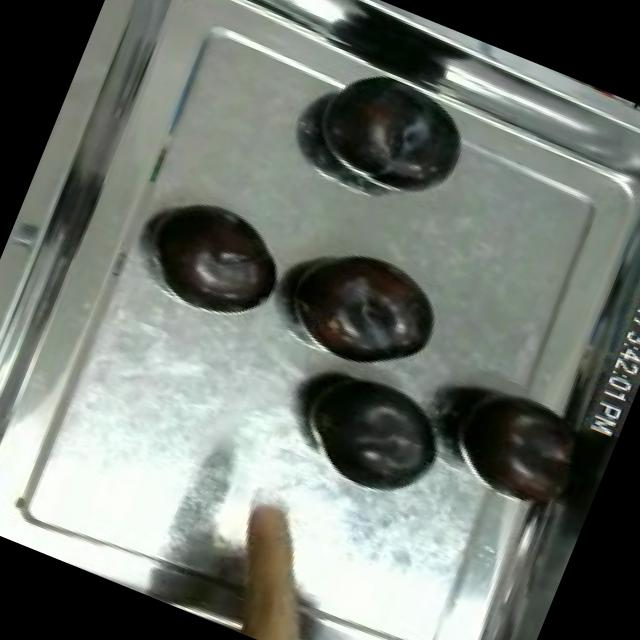Fruit: (298, 52, 487, 215), (272, 225, 458, 388), (278, 348, 462, 512), (433, 372, 604, 522), (142, 182, 300, 320)
